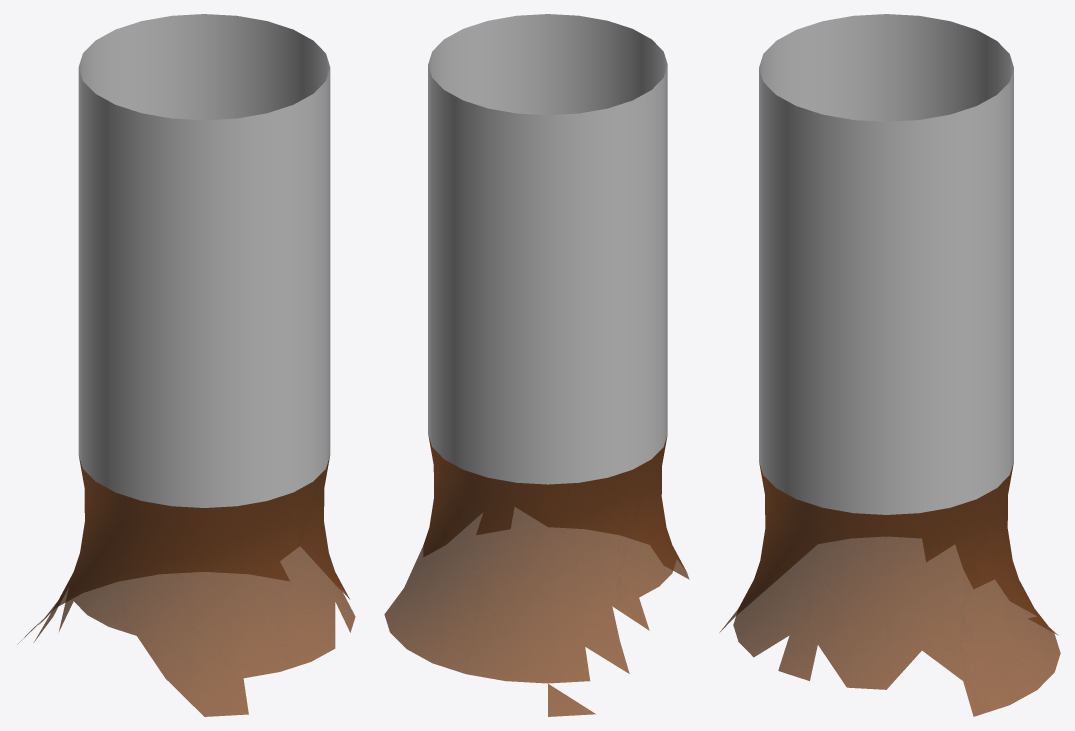
The picture shows the model from 3 angles, left to right: view 1: azimuth 30°, elevation 25°; view 2: azimuth 150°, elevation 25°; view 3: azimuth 270°, elevation 25°; orthographic projection. The views are drawn at different scales.
Size of the model in its own units: 0.1941 by 0.4298 by 0.2186.
